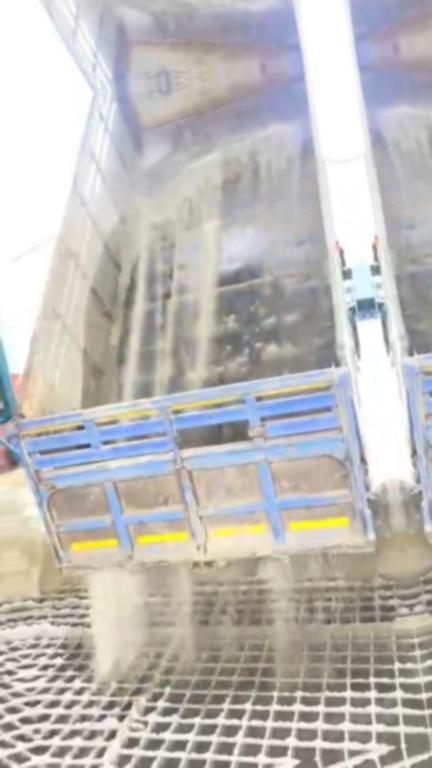sand: (5, 479, 407, 681), (112, 125, 298, 401), (137, 615, 415, 653), (263, 562, 302, 676), (98, 704, 145, 768), (22, 623, 93, 645), (143, 126, 178, 168)
